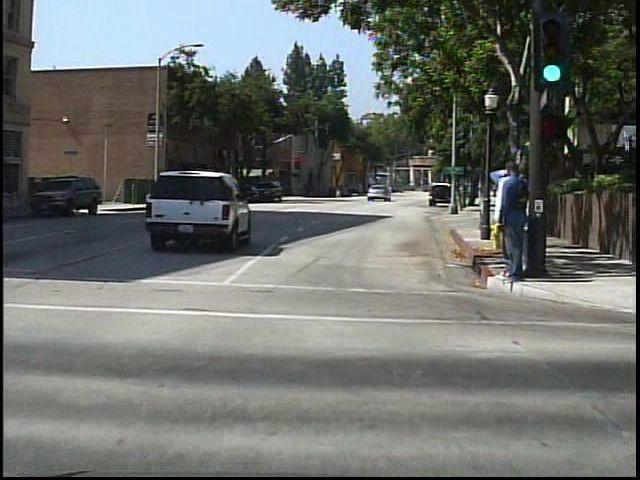person: (483, 164, 518, 287), (497, 156, 527, 287), (333, 182, 344, 199)
